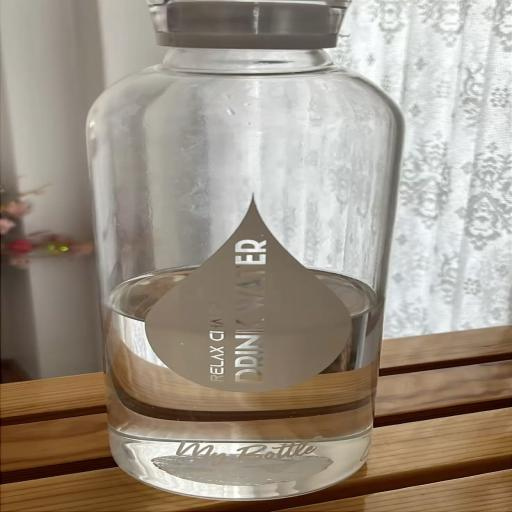bench: (88, 0, 402, 500)
